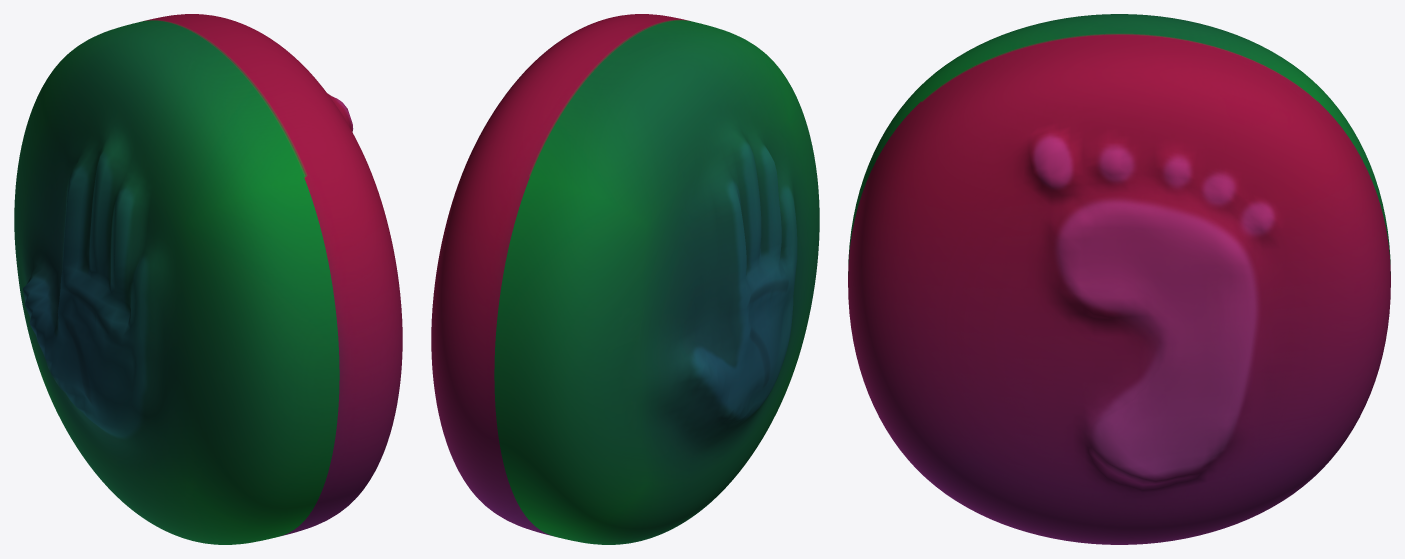
File: hand_foot_done1.fbx
3 views of the same model, side by side, from view 1: azimuth 30°, elevation 25°; view 2: azimuth 150°, elevation 25°; view 3: azimuth 270°, elevation 25° (orthographic). The views are drawn at different scales.
Visible parts, largest first — view 1: pCube1; view 2: pCube1; view 3: pCube1.
Boxes of the visible parts, x1,y1,x2,y2 form: pCube1: (14,14,402,544); pCube1: (431,14,819,544); pCube1: (848,14,1390,544).
Size of the model in its own units: 2.12 by 3.67 by 3.67.
